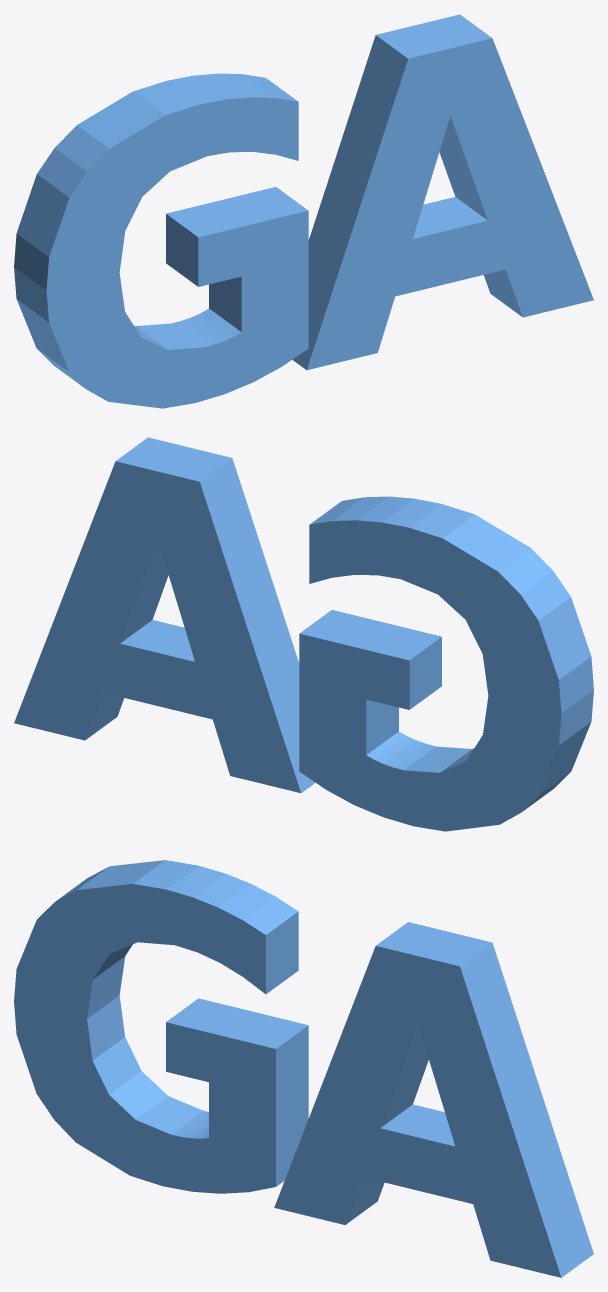
File: suku_besar_ga.glb
The picture shows the model from 3 angles, top to bottom: view 1: azimuth 30°, elevation 25°; view 2: azimuth 150°, elevation 25°; view 3: azimuth 330°, elevation 25°; orthographic projection.
Visible parts, largest first — view 1: geometry_0; view 2: geometry_0; view 3: geometry_0.
Part boxes in pixels (x1,y1,x2,y2): geometry_0: (14,14,593,408); geometry_0: (14,437,593,831); geometry_0: (14,860,593,1277).
Bounding box in the file's own units: 14.56 × 7.56 × 1.5.
